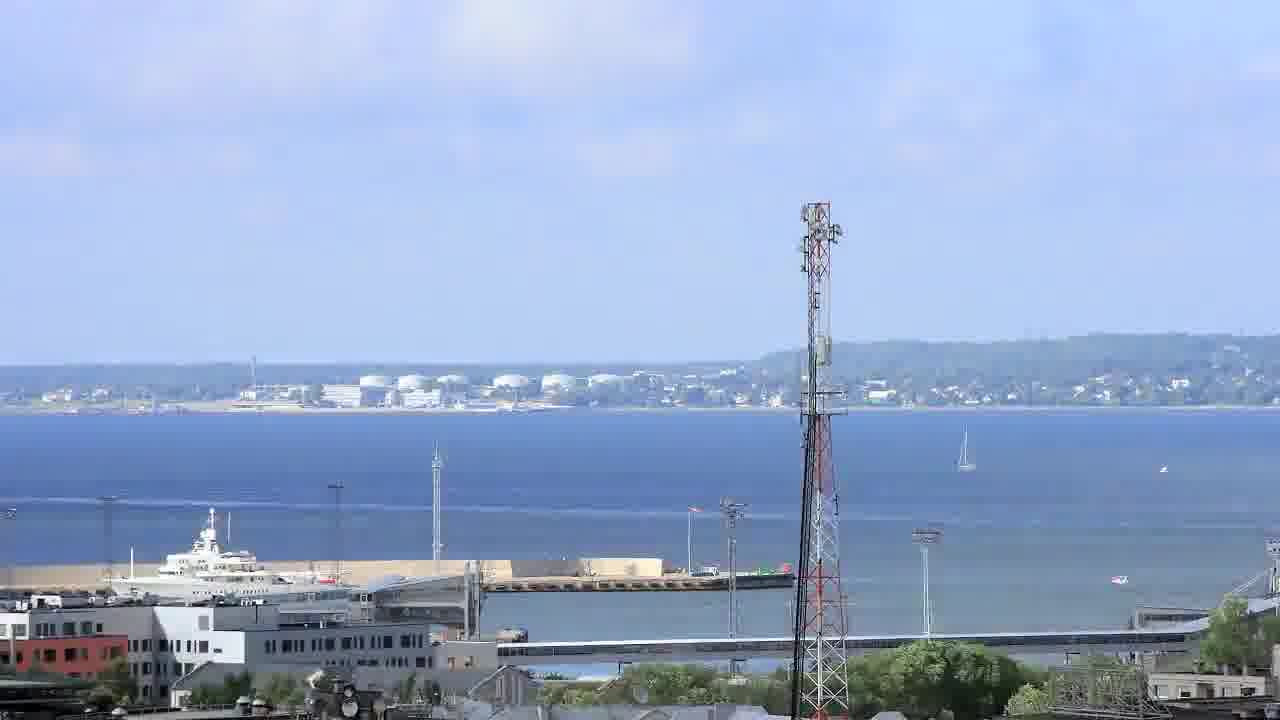type-2: (942, 416, 996, 483)
type-3: (96, 508, 381, 605)
type-4: (1101, 552, 1143, 598), (1150, 452, 1189, 483)
